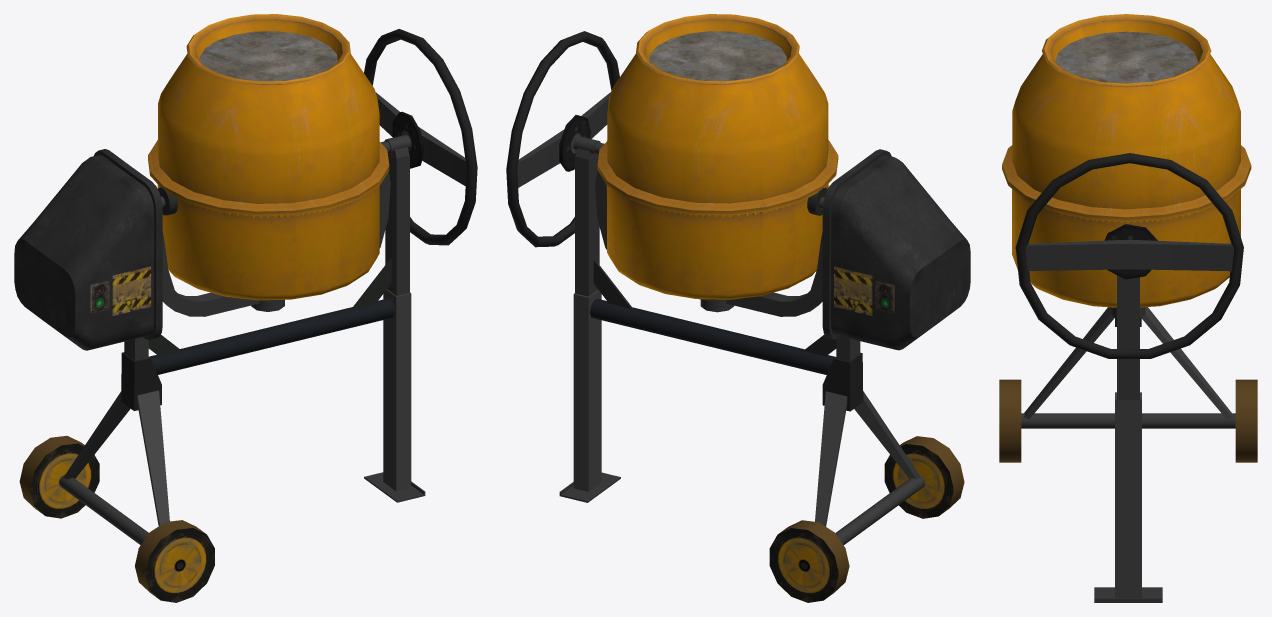
The picture shows the model from 3 angles, left to right: view 1: azimuth 30°, elevation 25°; view 2: azimuth 150°, elevation 25°; view 3: azimuth 270°, elevation 25°; orthographic projection. The views are drawn at different scales.
Visible parts, largest first — view 1: Body 1, Body 3, Body 2; view 2: Body 1, Body 3, Body 2; view 3: Body 3, Body 1.
Part boxes in pixels (x1,y1,x2,y2): Body 1: (14, 29, 477, 602); Body 3: (148, 14, 389, 300); Body 2: (158, 134, 411, 316); Body 1: (506, 31, 970, 602); Body 3: (597, 14, 838, 300); Body 2: (573, 136, 827, 316); Body 3: (1002, 14, 1251, 307); Body 1: (999, 153, 1257, 602).
Bounding box in the file's own units: 11.11 × 13.2 × 6.38.
1 material, 1 textured.
